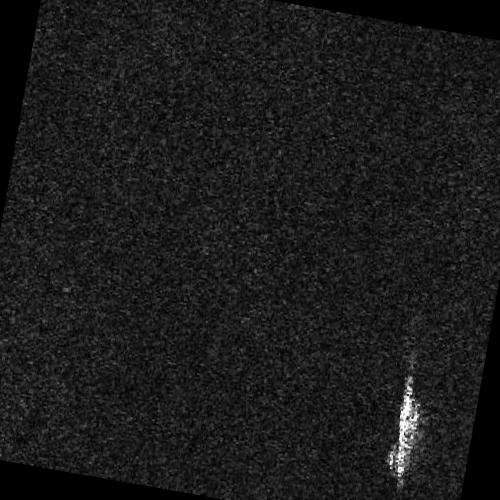ship: (388, 375, 418, 482)
